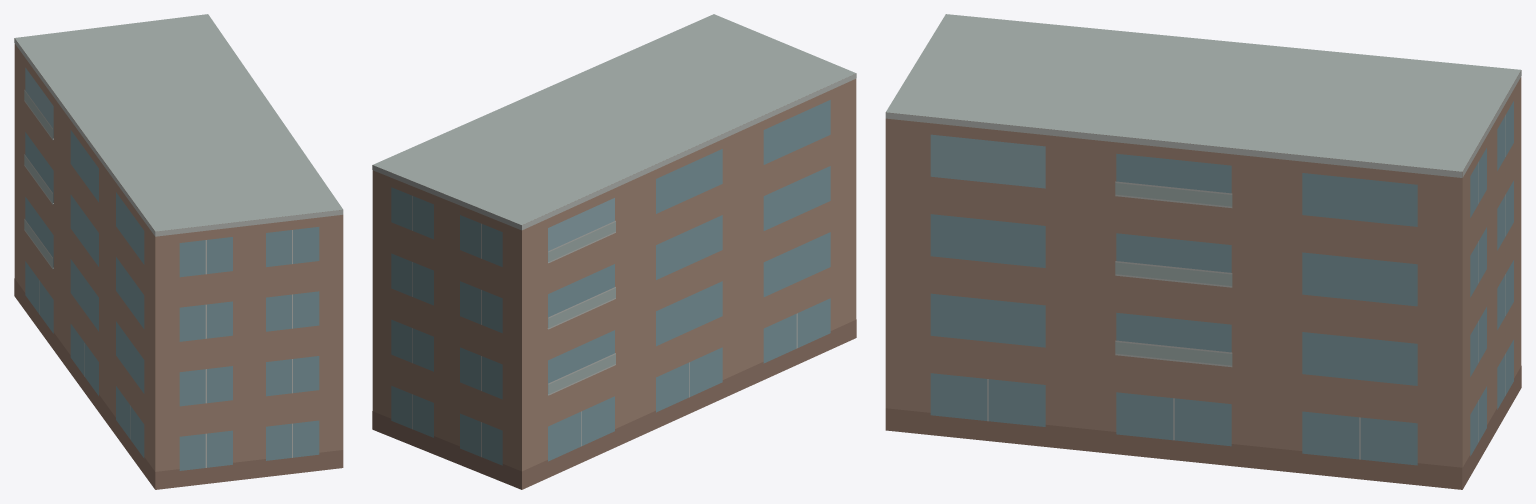
File: survey-upis-32873151.glb
The picture shows the model from 3 angles, left to right: view 1: azimuth 30°, elevation 25°; view 2: azimuth 150°, elevation 25°; view 3: azimuth 270°, elevation 25°; orthographic projection. The views are drawn at different scales.
Visible parts, largest first — view 1: survey-upis-32873151.tmp; view 2: survey-upis-32873151.tmp; view 3: survey-upis-32873151.tmp.
Part boxes in pixels (left/top/right/bottom): survey-upis-32873151.tmp: left=14, top=14, right=343, bottom=489; survey-upis-32873151.tmp: left=372, top=14, right=856, bottom=489; survey-upis-32873151.tmp: left=885, top=14, right=1521, bottom=489.
Size of the model in its own units: 13.2 by 12.4 by 22.47.
